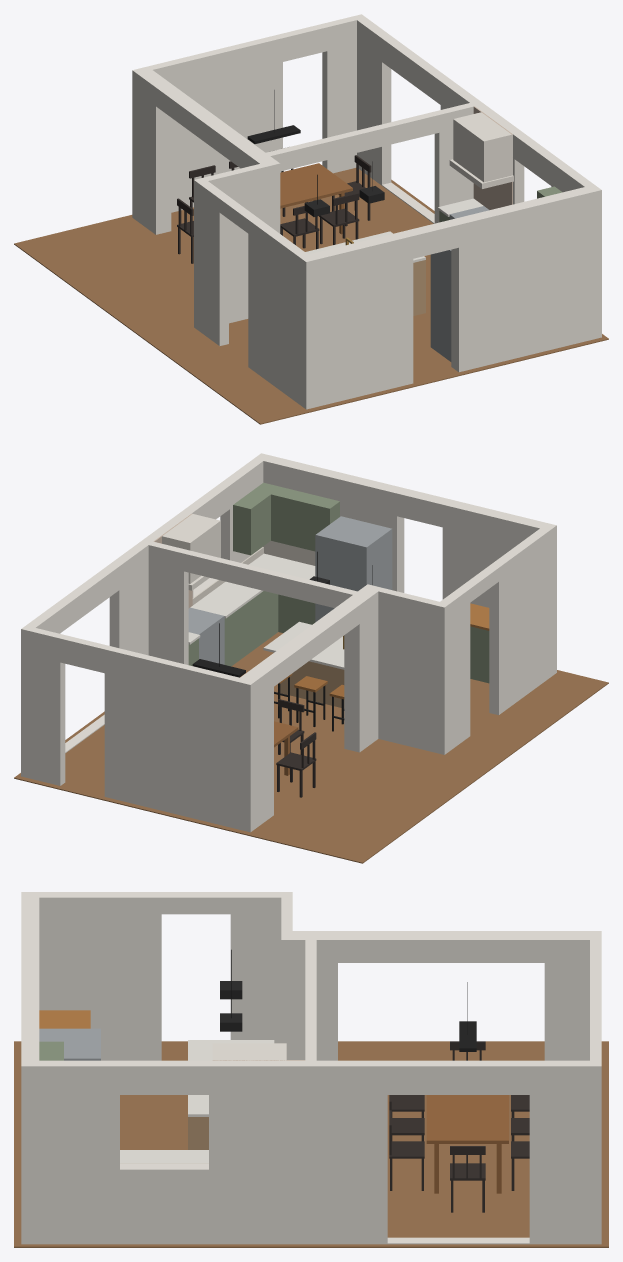
The model's file is R2_kitchen_AR_fullsize.glb.
3 views of the same model, one above another, from view 1: azimuth 30°, elevation 25°; view 2: azimuth 150°, elevation 25°; view 3: azimuth 270°, elevation 25° (orthographic). The views are drawn at different scales.
Parts seen in each view (by area): view 1: wall, floor, hood, chair, steel, table, brick, top, shade, island; view 2: wall, floor, perim, steel, top, hood, chair, island, black, exSplash, stoolseat; view 3: wall, floor, chair, table, top, steel, hood, wood, shade, island, black, perim.
Boxes of the visible parts, x1=… form: wall: x1=132, y1=14, x2=601, y2=409; floor: x1=14, y1=168, x2=608, y2=424; hood: x1=449, y1=112, x2=513, y2=188; chair: x1=177, y1=155, x2=371, y2=263; steel: x1=430, y1=206, x2=489, y2=361; table: x1=280, y1=163, x2=352, y2=234; brick: x1=473, y1=106, x2=512, y2=209; top: x1=305, y1=198, x2=483, y2=262; shade: x1=304, y1=186, x2=384, y2=216; island: x1=413, y1=260, x2=425, y2=315; wall: x1=21, y1=453, x2=556, y2=832; floor: x1=14, y1=632, x2=608, y2=863; perim: x1=188, y1=482, x2=489, y2=683; steel: x1=188, y1=516, x2=392, y2=664; top: x1=188, y1=553, x2=344, y2=669; hood: x1=162, y1=514, x2=220, y2=590; chair: x1=276, y1=699, x2=316, y2=797; island: x1=280, y1=661, x2=344, y2=708; black: x1=192, y1=659, x2=344, y2=731; exSplash: x1=192, y1=541, x2=315, y2=605; stoolseat: x1=278, y1=673, x2=344, y2=699; wall: x1=21, y1=892, x2=601, y2=1244; floor: x1=14, y1=1041, x2=608, y2=1247; chair: x1=389, y1=1041, x2=529, y2=1212; table: x1=426, y1=1095, x2=508, y2=1193; top: x1=120, y1=1040, x2=274, y2=1163; steel: x1=39, y1=1028, x2=100, y2=1060; hood: x1=212, y1=1043, x2=286, y2=1060; wood: x1=39, y1=1010, x2=90, y2=1028; shade: x1=220, y1=981, x2=242, y2=1031; island: x1=188, y1=1117, x2=208, y2=1149; black: x1=459, y1=1021, x2=476, y2=1051; perim: x1=39, y1=1041, x2=63, y2=1060.
Size of the model in its own units: 6 by 2.44 by 7.35.
